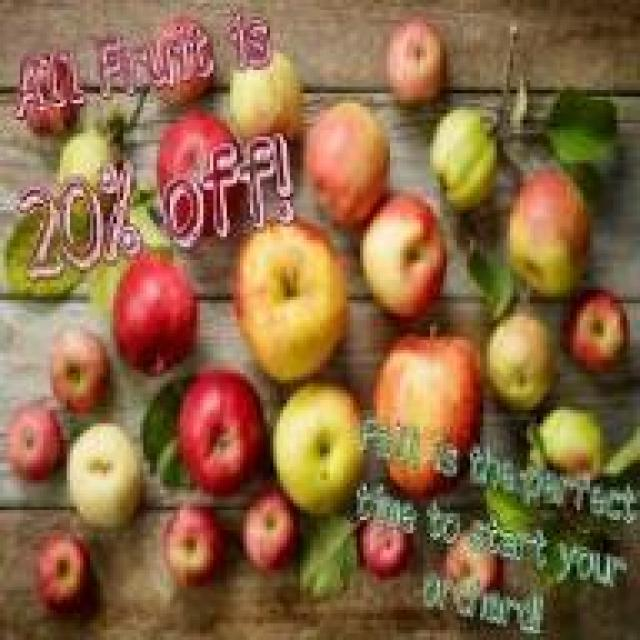apple: (370, 336, 477, 486), (233, 226, 337, 356), (266, 387, 366, 500), (353, 190, 440, 313), (503, 173, 590, 290), (50, 424, 147, 524), (183, 377, 277, 480), (153, 113, 240, 217), (116, 250, 196, 360), (306, 106, 386, 216), (423, 100, 497, 207), (377, 10, 453, 103), (27, 523, 100, 617), (223, 50, 300, 133), (530, 400, 603, 483), (483, 313, 550, 400), (240, 490, 303, 577), (167, 496, 220, 586), (40, 330, 100, 403), (440, 523, 507, 587), (567, 287, 623, 363), (360, 510, 413, 567), (7, 396, 50, 466)
